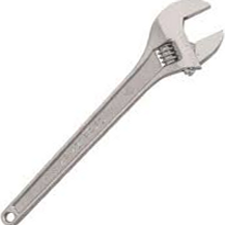Wrench: (1, 2, 225, 225)
